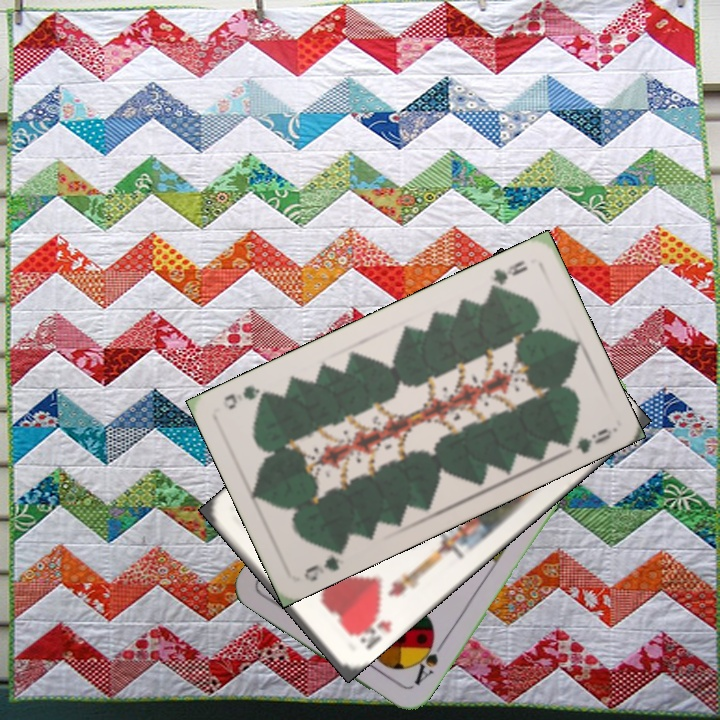G9: (300, 541, 348, 584), (483, 256, 531, 296)
HK: (347, 607, 395, 653)
SA: (408, 633, 447, 689)
